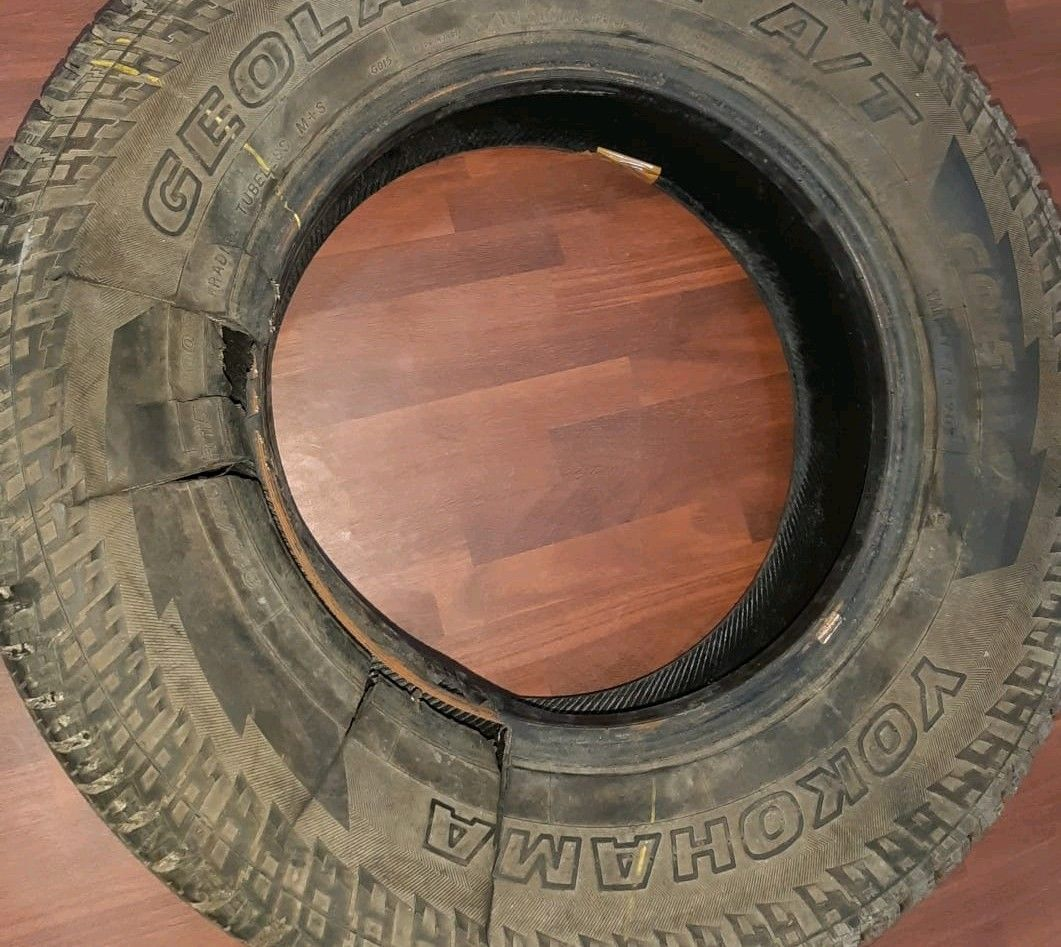bead_damage: (46, 171, 525, 945)
